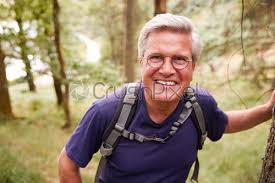white_male: (145, 18, 190, 114)
